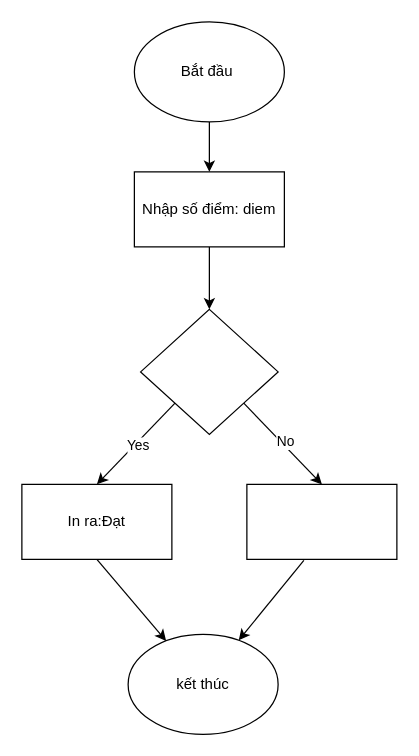
This 419x756 diagram has some shape labels left out. The centre of each missing label's shape, as x and y in pixels:
"In ra:Không Đạt" goes at [321,521].
"điểm >= 5?" goes at [208,371].
